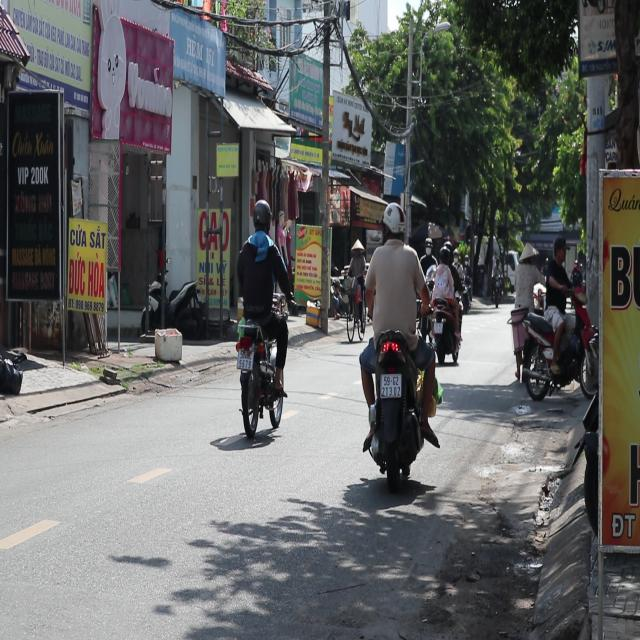helmet: (380, 200, 405, 240), (251, 197, 271, 231)
licenseplate: (357, 198, 441, 488), (232, 196, 291, 440)
nohelmet: (380, 373, 400, 397), (237, 350, 253, 369)
